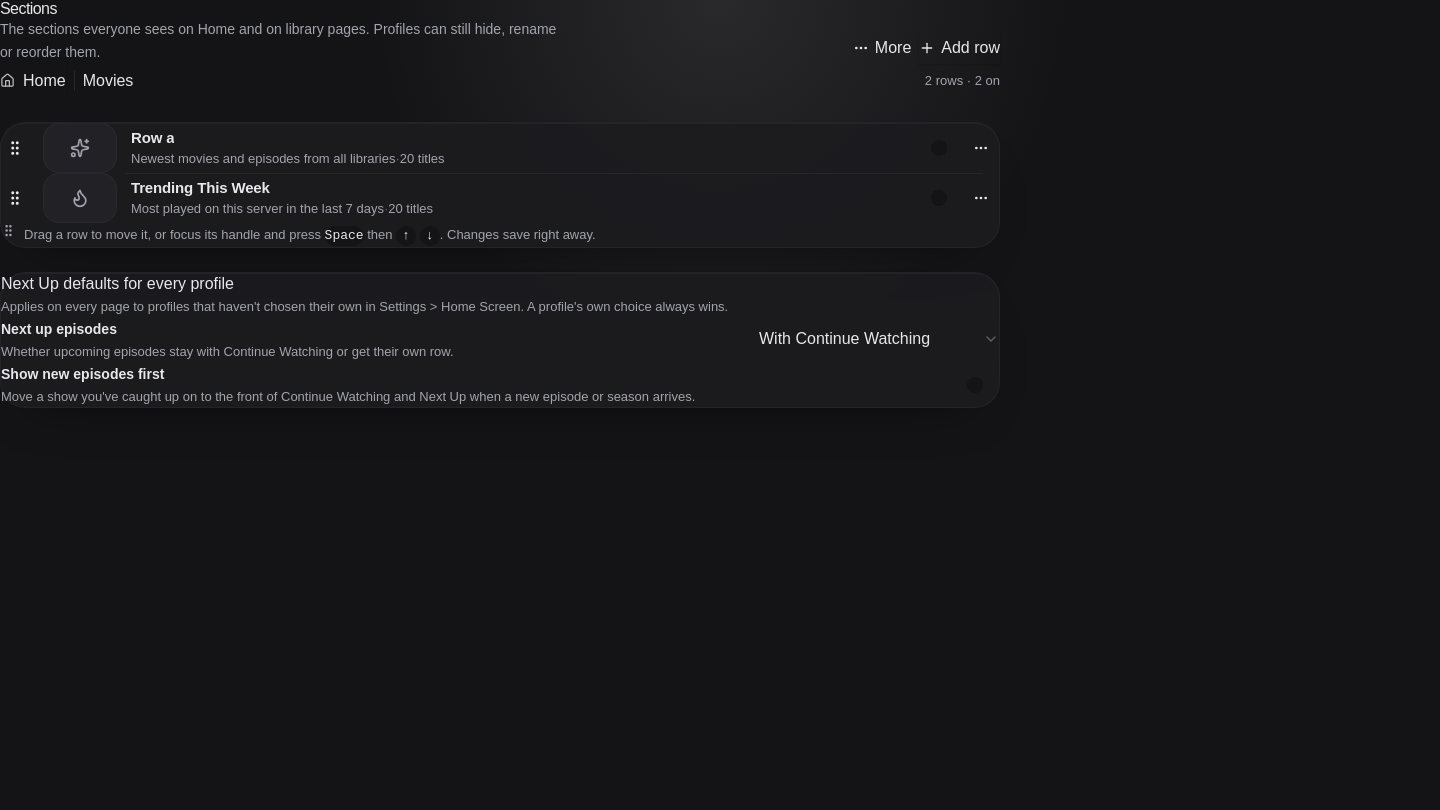
Test case: Add row › says when the server has no previews
Click the button "Add row".
click(960, 48)  # box [919,32,1000,64]
(page scrolled)
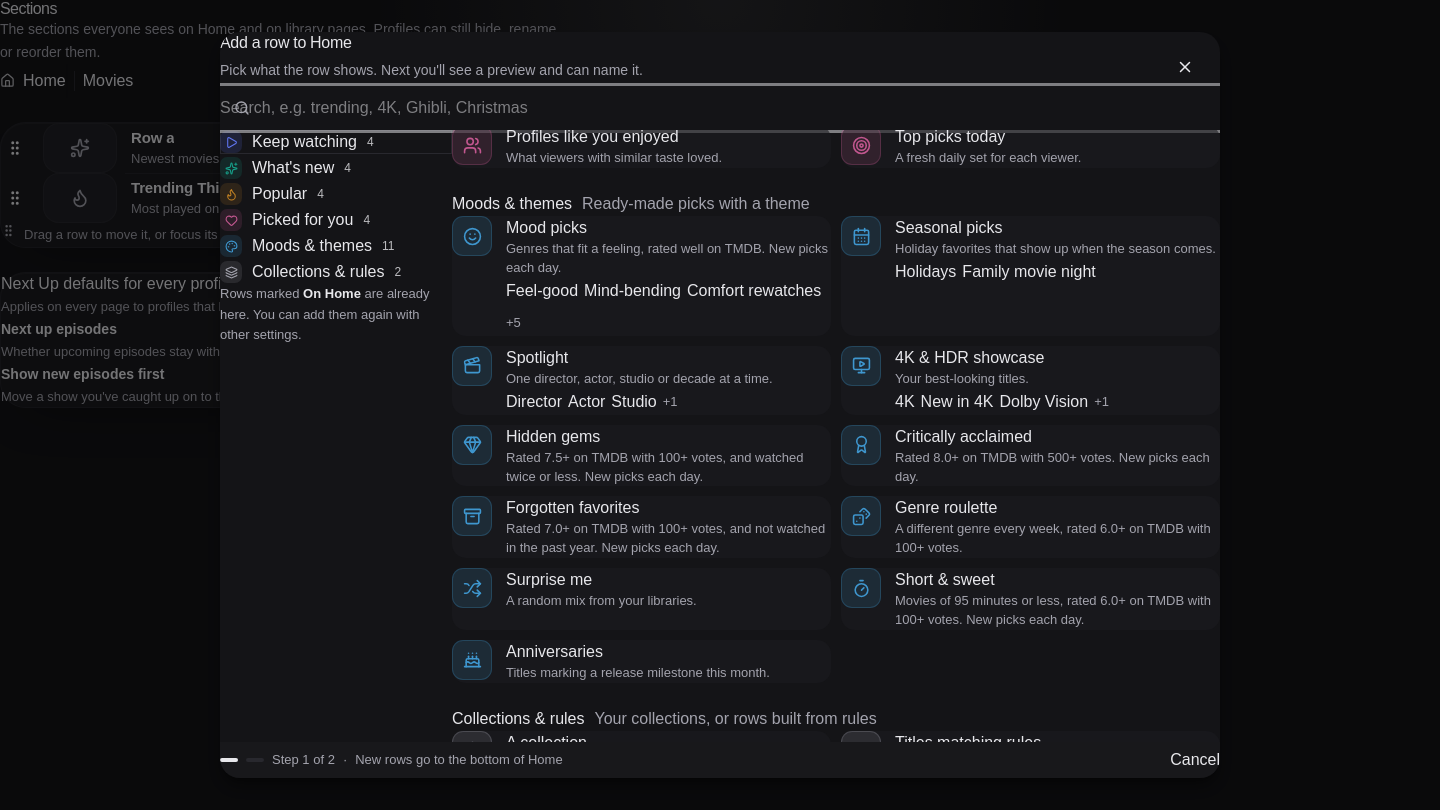
Click the button "Hidden gems".
click(553, 437)  # box [506,425,600,449]
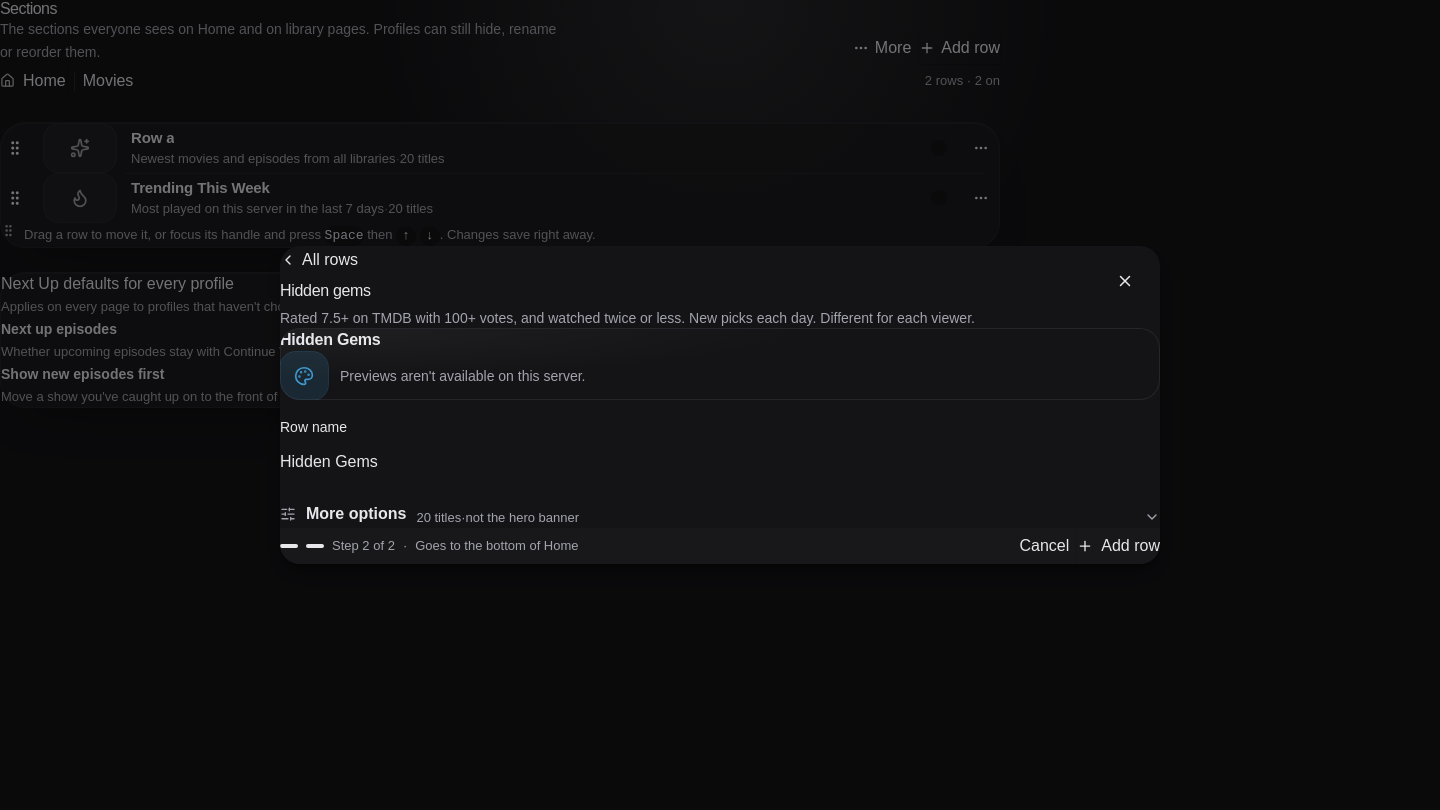
Now the text "Previews aren't available on this server." is shown, box [340,366,586,386]
